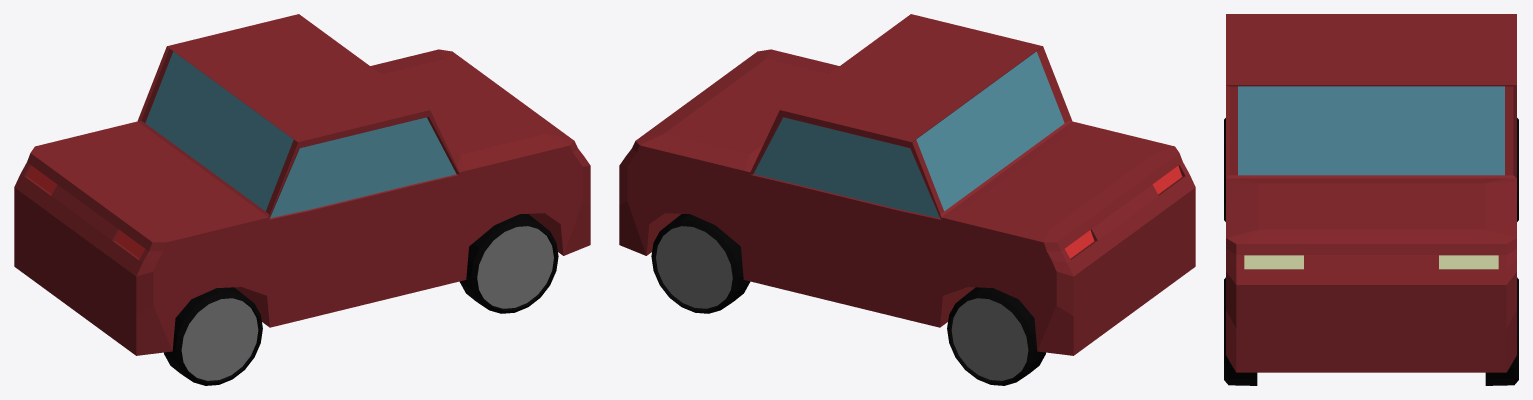
The model's file is Car V1.fbx.
3 views of the same model, side by side, from view 1: azimuth 30°, elevation 25°; view 2: azimuth 150°, elevation 25°; view 3: azimuth 270°, elevation 25° (orthographic). The views are drawn at different scales.
Visible parts, largest first — view 1: Car Body, Tire2, Tire3; view 2: Car Body, Tire1, Tire4; view 3: Car Body, Tire2, Tire1.
Part boxes in pixels (x1=…): Car Body: x1=14, y1=14, x2=590, y2=355; Tire2: x1=459, y1=214, x2=558, y2=313; Tire3: x1=164, y1=287, x2=262, y2=385; Car Body: x1=619, y1=14, x2=1195, y2=355; Tire1: x1=651, y1=214, x2=750, y2=313; Tire4: x1=947, y1=287, x2=1045, y2=385; Car Body: x1=1226, y1=14, x2=1516, y2=372; Tire2: x1=1224, y1=277, x2=1257, y2=385; Tire1: x1=1485, y1=277, x2=1518, y2=385.
Size of the model in its own units: 800 by 379 by 406.
